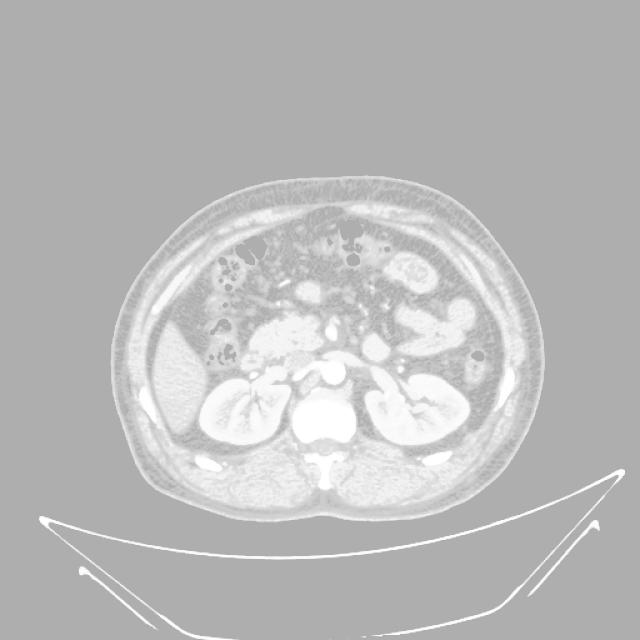NORMAL: (104, 166, 544, 524)
